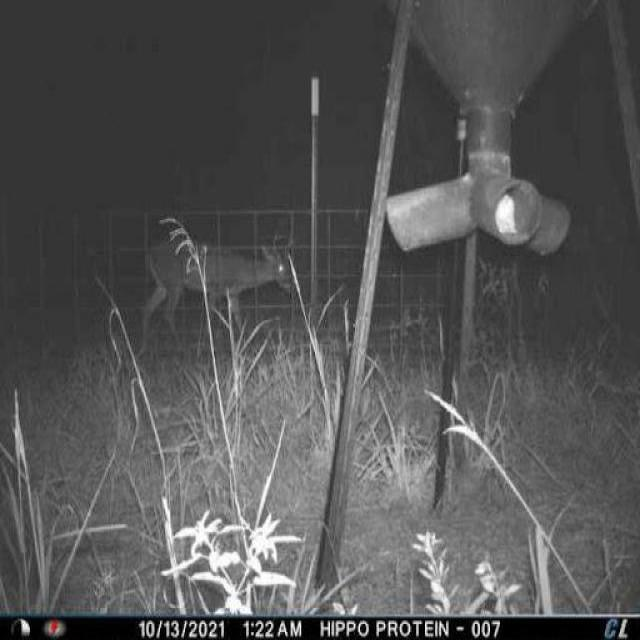deer: (137, 218, 315, 355)
